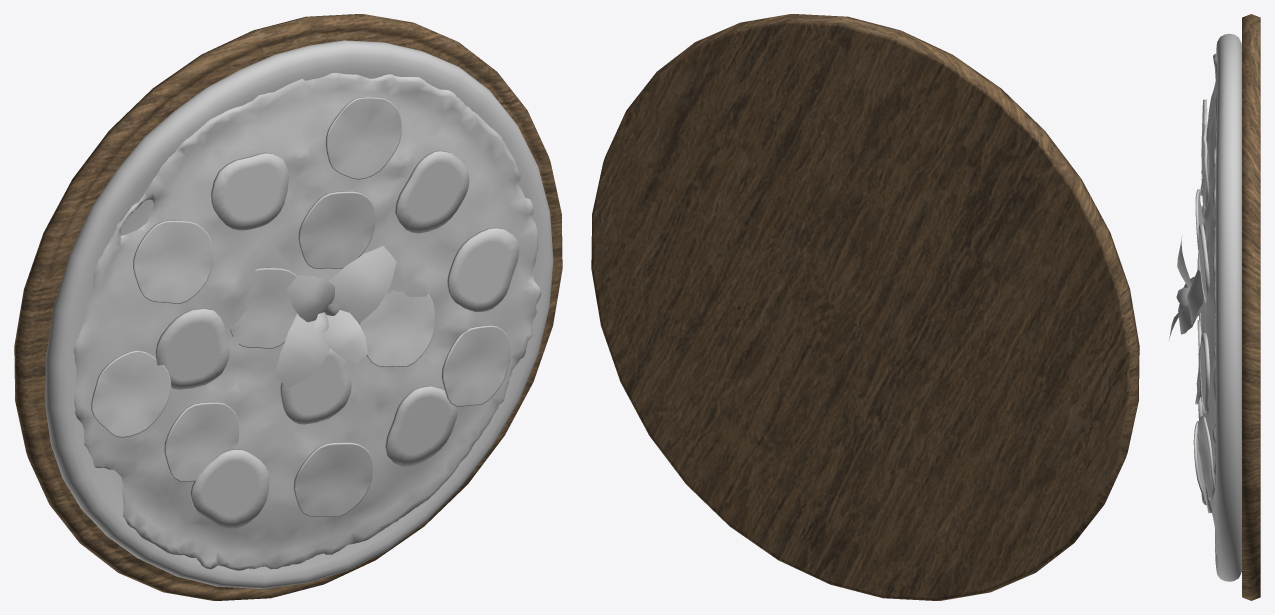
Rendered from Pizza_2.gltf.
3 views of the same model, side by side, from view 1: azimuth 30°, elevation 25°; view 2: azimuth 150°, elevation 25°; view 3: azimuth 270°, elevation 25° (orthographic). The views are drawn at different scales.
Visible parts, largest first — view 1: Cheese, Salami, Pizza, Wood_deck, Tomatoes, Leaves; view 2: Wood_deck; view 3: Pizza, Wood_deck, Cheese, Salami, Tomatoes, Leaves.
Part boxes in pixels (x1=…): Cheese: x1=73, y1=73, x2=541, y2=570; Salami: x1=91, y1=97, x2=510, y2=517; Pizza: x1=45, y1=40, x2=553, y2=588; Wood_deck: x1=14, y1=14, x2=562, y2=600; Tomatoes: x1=155, y1=150, x2=519, y2=528; Leaves: x1=274, y1=246, x2=396, y2=387; Wood_deck: x1=591, y1=14, x2=1139, y2=600; Pizza: x1=1215, y1=33, x2=1241, y2=581; Wood_deck: x1=1242, y1=14, x2=1260, y2=600; Cheese: x1=1200, y1=53, x2=1217, y2=555; Salami: x1=1193, y1=124, x2=1215, y2=505; Tomatoes: x1=1197, y1=99, x2=1211, y2=513; Leaves: x1=1169, y1=235, x2=1203, y2=340.
Size of the model in its own units: 0.6053 by 0.6053 by 0.0954.
